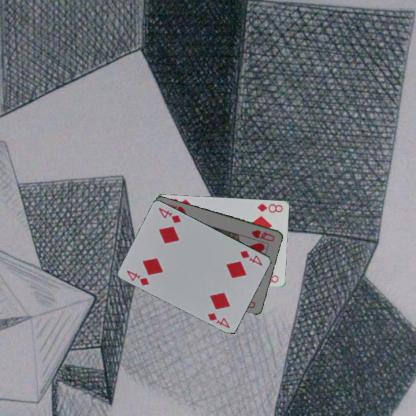4d: (237, 247, 265, 267), (124, 268, 151, 288)
8d: (254, 201, 284, 214)
Qh: (249, 227, 276, 243)
